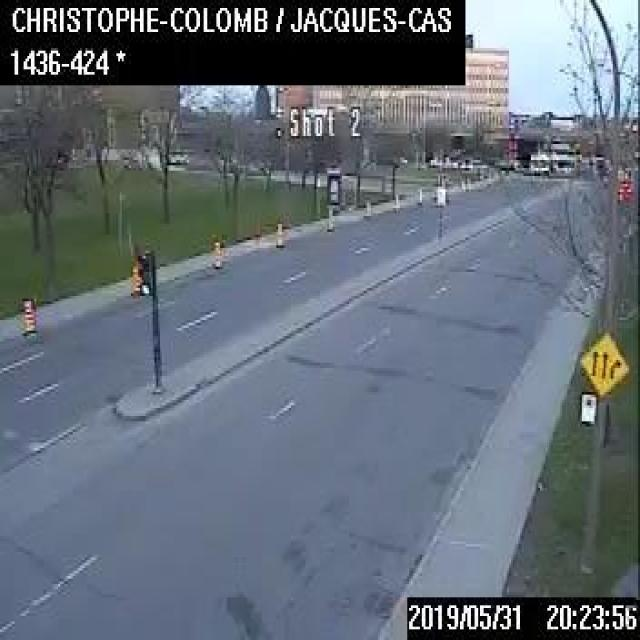construction: (20, 296, 35, 339), (129, 259, 140, 296), (212, 238, 220, 268), (326, 203, 333, 229), (275, 220, 282, 246), (363, 197, 370, 216), (393, 192, 398, 206), (416, 186, 420, 202)
